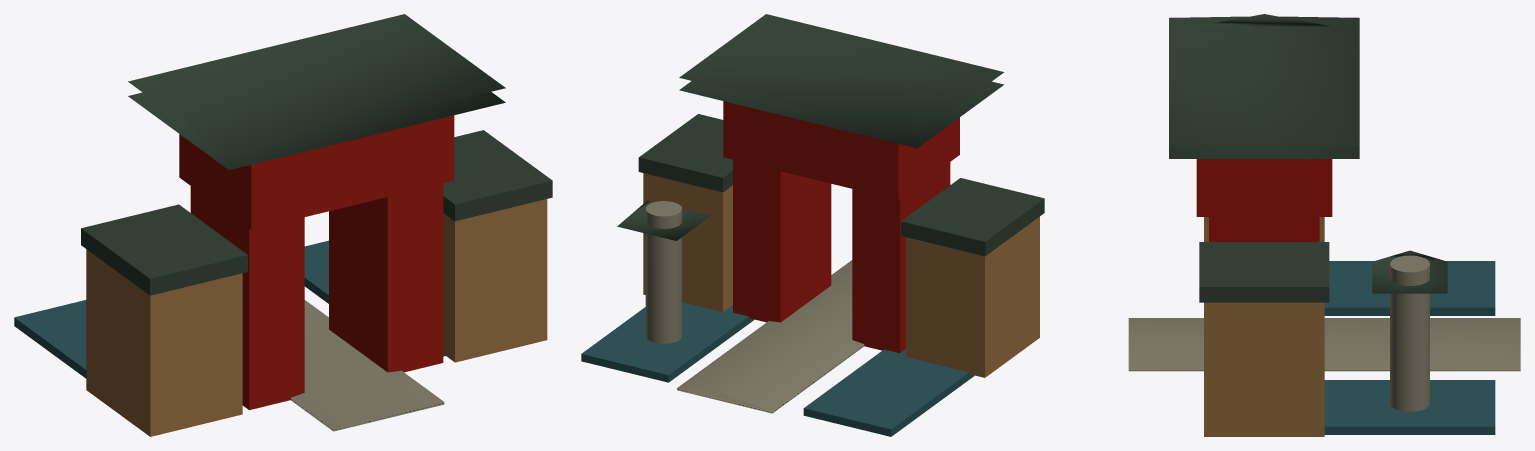
Rendered from Jinmen.fbx.
3 views of the same model, side by side, from view 1: azimuth 30°, elevation 25°; view 2: azimuth 150°, elevation 25°; view 3: azimuth 270°, elevation 25° (orthographic). The views are drawn at different scales.
Visible parts, largest first — view 1: gate_roof, east_wall, west_pier, gate_house, west_wall, east_pier, east_wall_coping, causeway, east_wall_2, west_wall_coping, west_wall_2, gate_roof_2 (+2 smaller); view 2: gate_roof, west_pier, east_wall_2, east_wall, gate_house, causeway, east_pier, water_e, east_wall_coping, west_wall, water_w, jin_marker (+4 smaller); view 3: gate_roof, west_wall, causeway, water_w, west_wall_2, west_wall_coping, gate_house, water_e, jin_marker, gate_roof_2, west_pier, marker_cap.
Part boxes in pixels (box(x1,y1,x2,y2)): gate_roof: box(128, 14, 505, 155); east_wall: box(86, 249, 242, 436); west_pier: box(329, 183, 443, 372); gate_house: box(179, 115, 454, 229); west_wall: box(443, 199, 547, 362); east_pier: box(190, 186, 304, 410); east_wall_coping: box(81, 204, 247, 295); causeway: box(291, 300, 444, 431); east_wall_2: box(86, 254, 242, 436); west_wall_coping: box(443, 130, 552, 221); west_wall_2: box(443, 204, 547, 361); gate_roof_2: box(128, 92, 505, 169); gate_roof: box(679, 14, 1004, 135); west_pier: box(733, 160, 831, 322); east_wall_2: box(905, 221, 1039, 377); east_wall: box(905, 216, 1039, 377); gate_house: box(723, 101, 959, 199); causeway: box(677, 260, 864, 413); east_pier: box(852, 162, 950, 353); water_e: box(803, 349, 974, 436); east_wall_coping: box(901, 178, 1044, 256); west_wall: box(643, 173, 732, 311); water_w: box(581, 302, 754, 382); jin_marker: box(645, 201, 682, 343); gate_roof: box(1169, 16, 1359, 145); west_wall: box(1204, 302, 1324, 436); causeway: box(1128, 318, 1520, 371); water_w: box(1324, 380, 1495, 434); west_wall_2: box(1204, 302, 1324, 436); west_wall_coping: box(1199, 242, 1329, 302); gate_house: box(1196, 159, 1332, 216); water_e: box(1324, 261, 1495, 315); jin_marker: box(1390, 255, 1429, 411); gate_roof_2: box(1169, 14, 1359, 158); west_pier: box(1209, 217, 1319, 241); marker_cap: box(1372, 250, 1447, 293).
Size of the model in its own units: 87.2 by 68 by 89.
